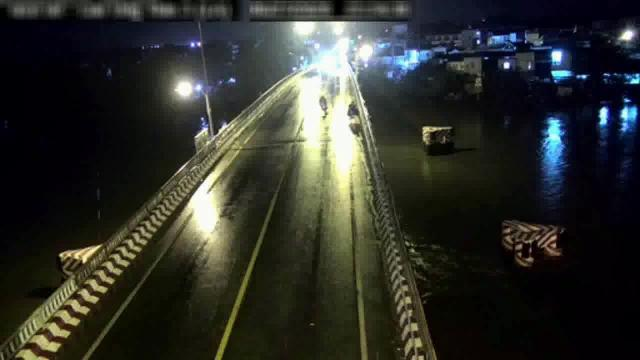Bike: (316, 92, 332, 115)
